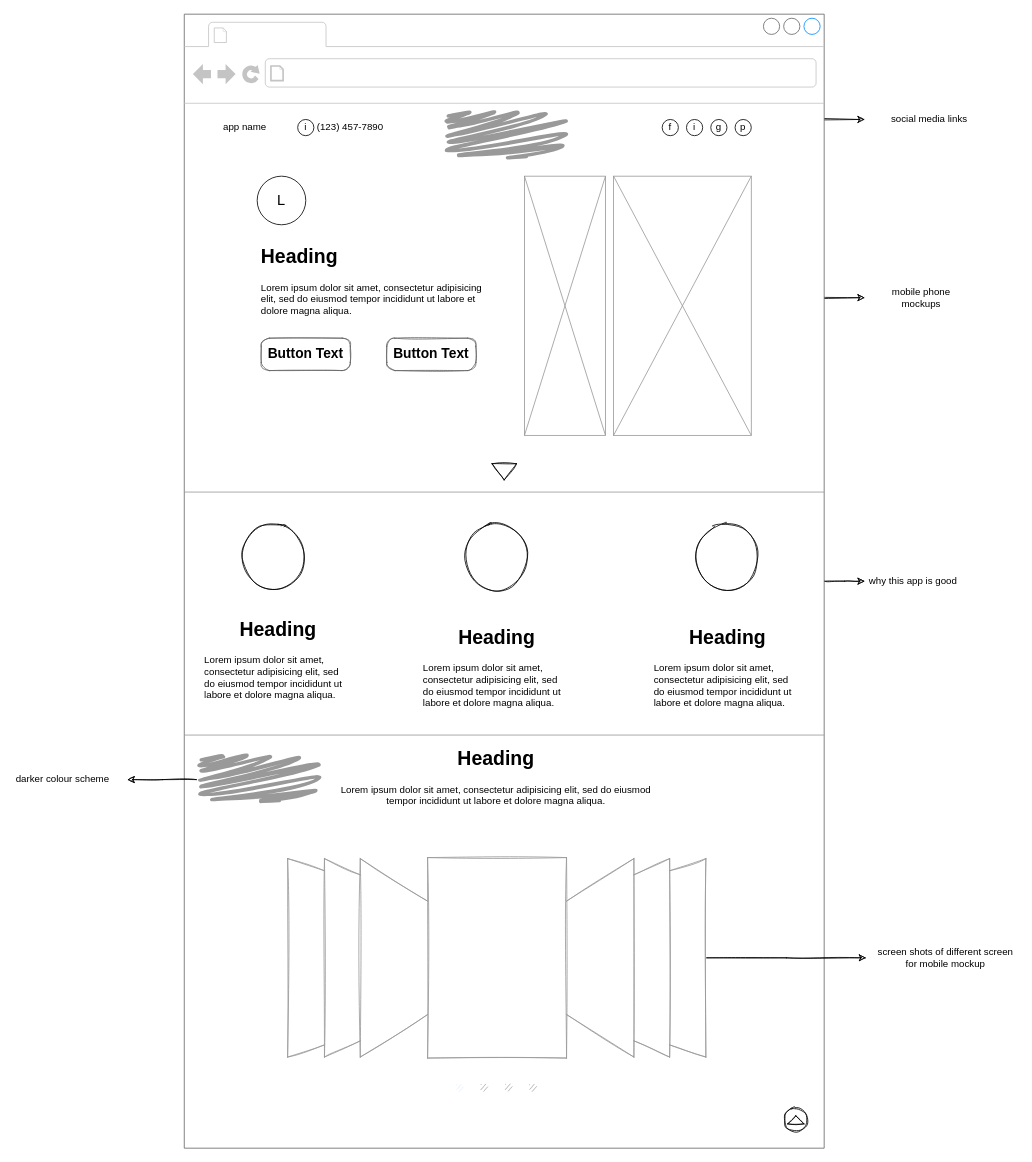
Image size: 1032x1162. Some labels were removed from this diagram. The shapes that lost their labels are listed below. From the top down, each one's box as (x1, y1, x2, y2) in pixels, then its label:
(232, 23, 322, 45): App Website
(289, 62, 492, 84): https://www.mobile-app-website
